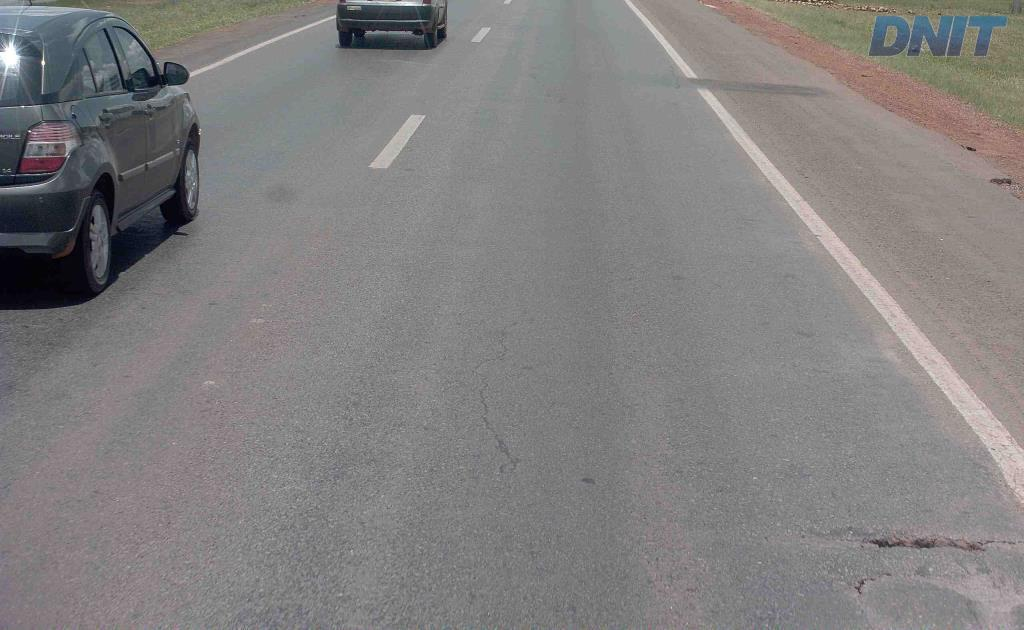crack: (861, 532, 995, 552)
pothole: (848, 525, 1022, 559)
